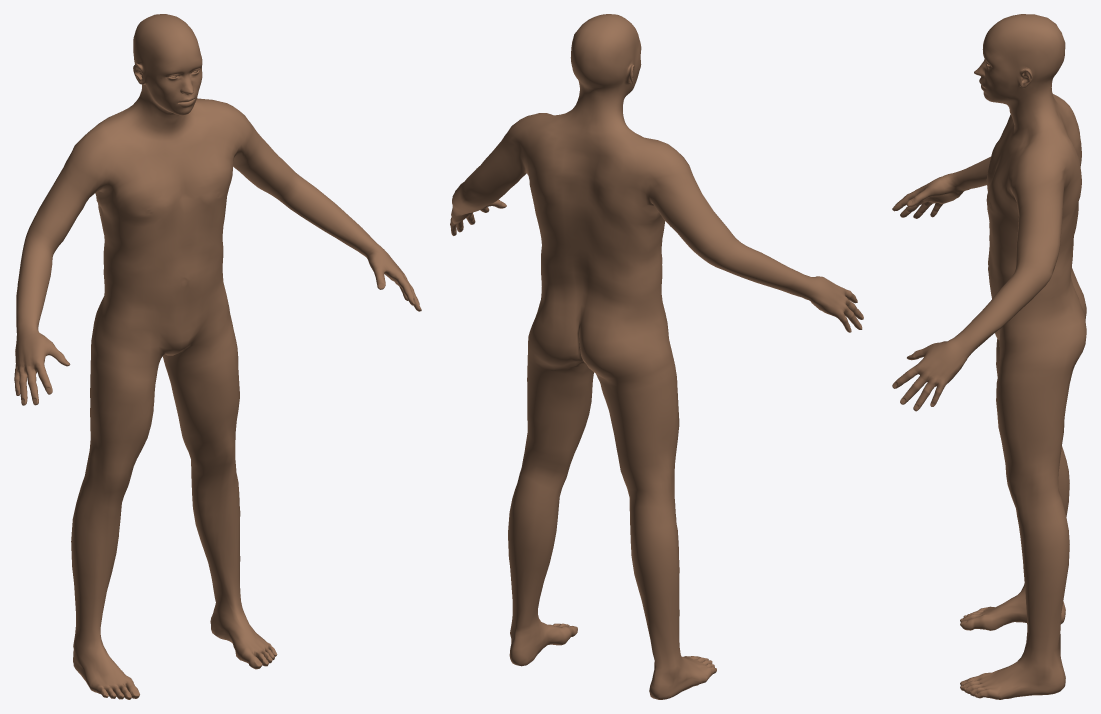
The picture shows the model from 3 angles, left to right: view 1: azimuth 30°, elevation 25°; view 2: azimuth 150°, elevation 25°; view 3: azimuth 270°, elevation 25°; orthographic projection.
Visible parts, largest first — view 1: base.obj; view 2: base.obj; view 3: base.obj.
Boxes of the visible parts, bbox=[...] form: base.obj: bbox=[14, 14, 421, 699]; base.obj: bbox=[450, 14, 863, 699]; base.obj: bbox=[892, 14, 1086, 699].
Bounding box in the file's own units: 11.65 × 18 × 4.94.
